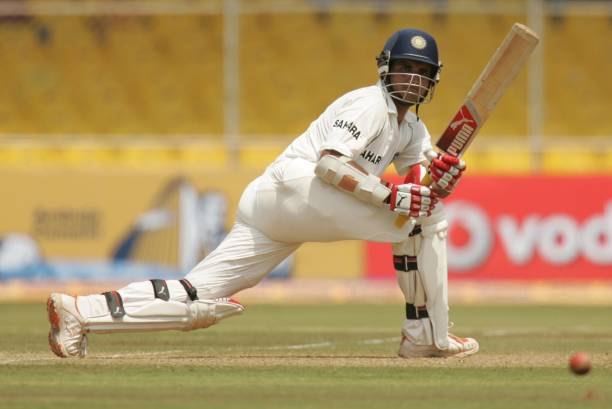bottom left: (506, 17, 524, 35)
bottom right: (530, 30, 550, 50)
top left: (428, 139, 445, 156)
top right: (451, 150, 470, 169)
